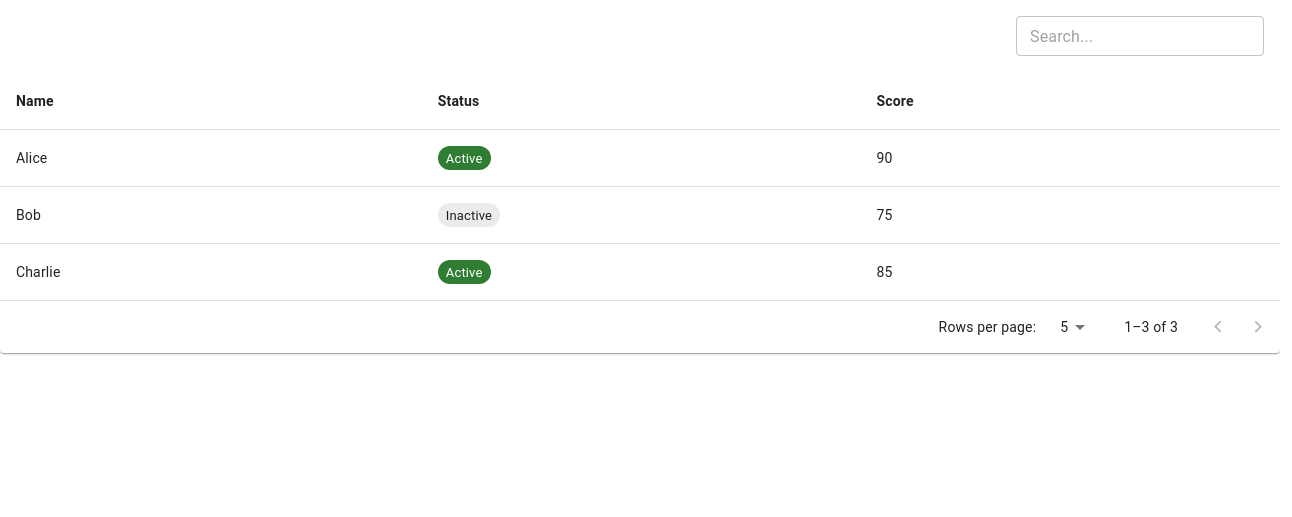
Test: DataTable › shows empty state when no rows match search
Type "xyz_no_match" into the field with placeholder "Search..." at (1140, 36), box [1016,16,1264,56]
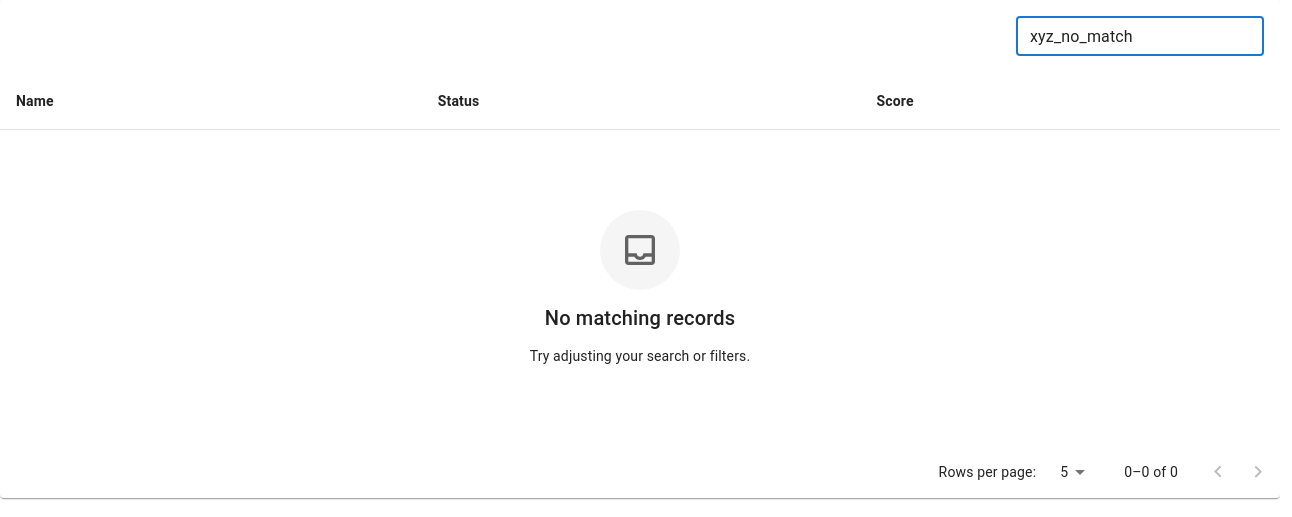
Now the heading "No matching records" is shown, box [545,302,735,334]
